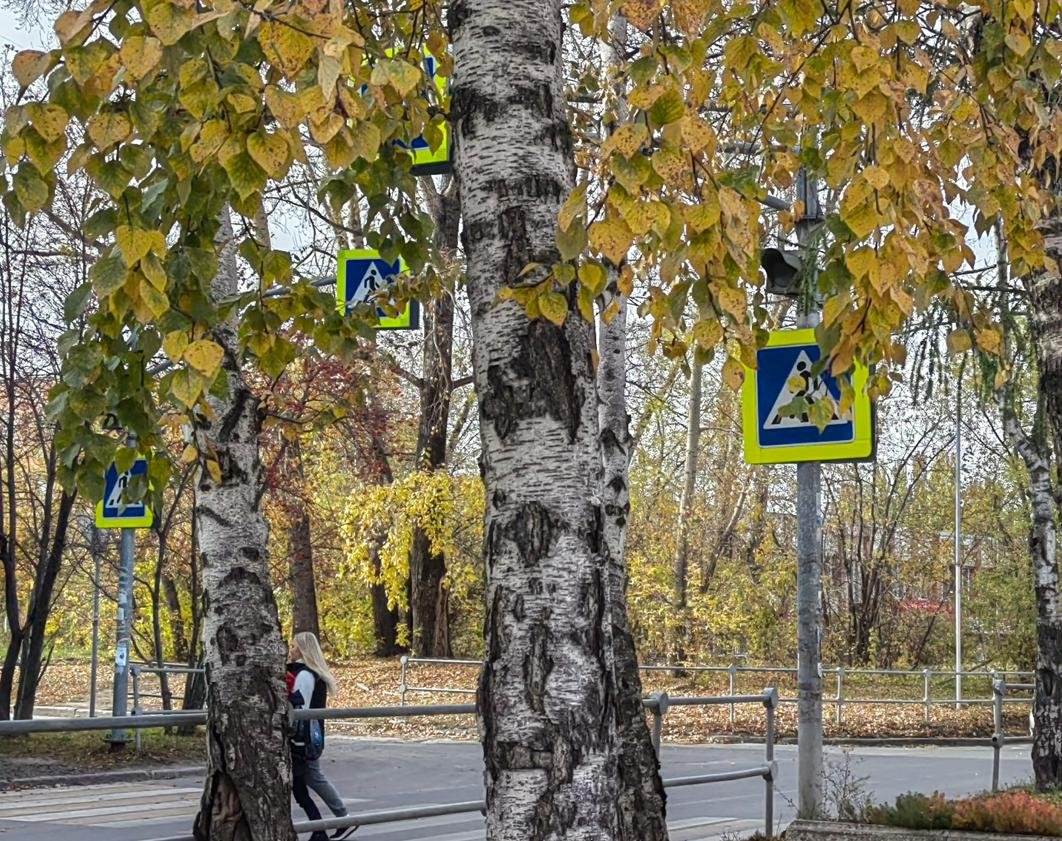obstructed_road_sign: (740, 325, 874, 462), (344, 41, 453, 172), (336, 247, 413, 330), (95, 450, 156, 528)
